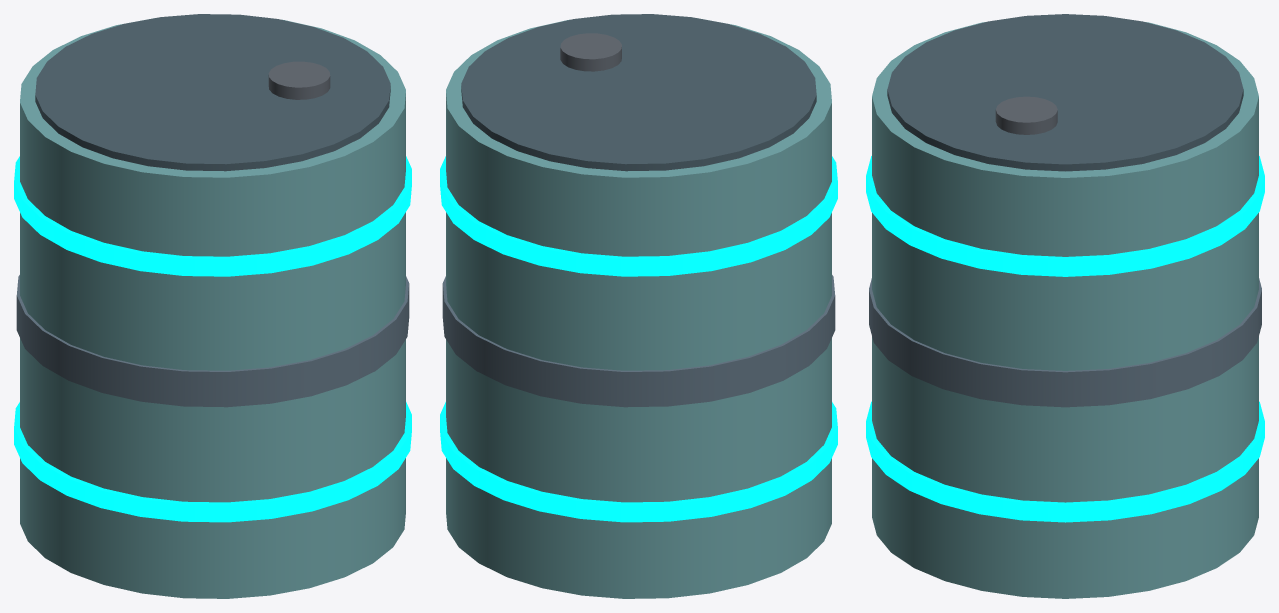
The model's file is barrel.glb.
The picture shows the model from 3 angles, left to right: view 1: azimuth 30°, elevation 25°; view 2: azimuth 150°, elevation 25°; view 3: azimuth 270°, elevation 25°; orthographic projection.
Parts seen in each view (by area): view 1: barrel; view 2: barrel; view 3: barrel.
Boxes of the visible parts, left/top/right/bottom form: barrel: left=14, top=14, right=411, bottom=598; barrel: left=440, top=14, right=837, bottom=598; barrel: left=866, top=14, right=1264, bottom=598.
Bounding box in the file's own units: 1.03 × 1.25 × 1.03.
